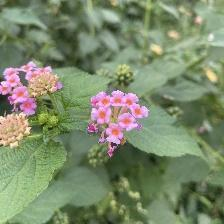common lanthana: (88, 83, 148, 158), (1, 60, 64, 117)
